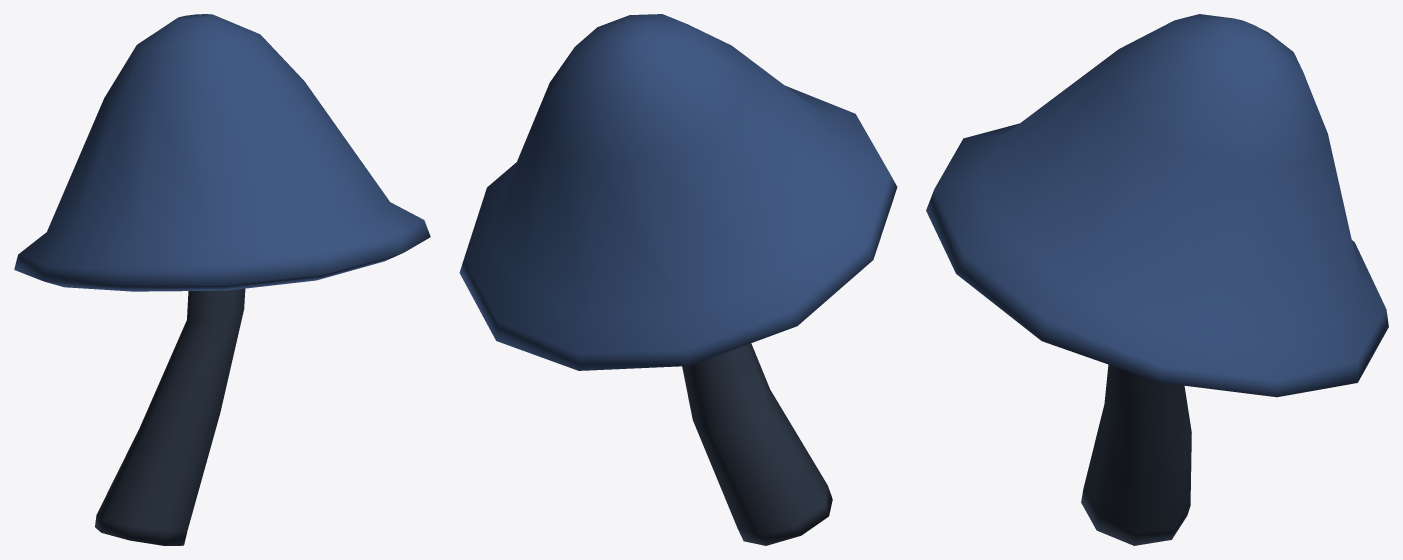
Rendered from Mushroom_02_Small.fbx.
The picture shows the model from 3 angles, left to right: view 1: azimuth 30°, elevation 25°; view 2: azimuth 150°, elevation 25°; view 3: azimuth 270°, elevation 25°; orthographic projection. The views are drawn at different scales.
Parts seen in each view (by area): view 1: Mushroom_02_Small; view 2: Mushroom_02_Small; view 3: Mushroom_02_Small.
Part boxes in pixels (x1,y1,x2,y2): Mushroom_02_Small: (14, 14, 430, 545); Mushroom_02_Small: (459, 14, 897, 545); Mushroom_02_Small: (926, 14, 1388, 545).
Bounding box in the file's own units: 0.1054 × 0.1338 × 0.1005.
